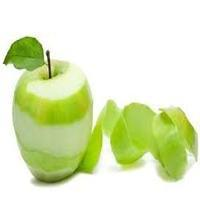biodegradable: (11, 58, 94, 181), (85, 98, 198, 181)
